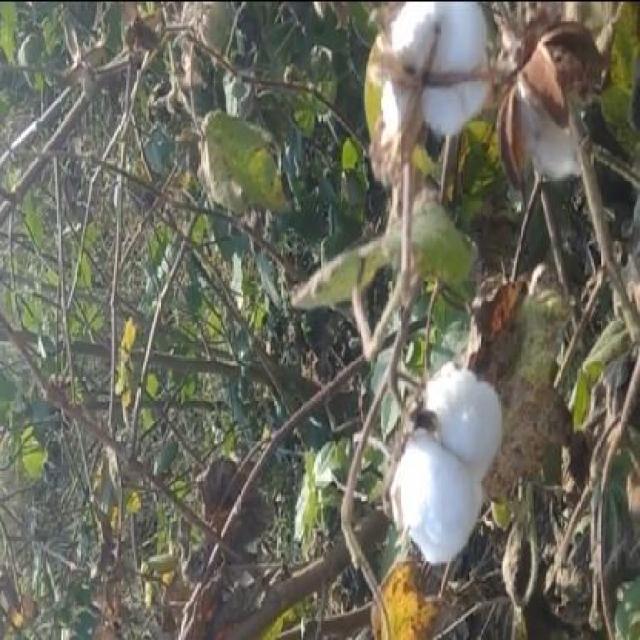cotton_ready: (371, 349, 518, 563), (380, 10, 502, 188)
